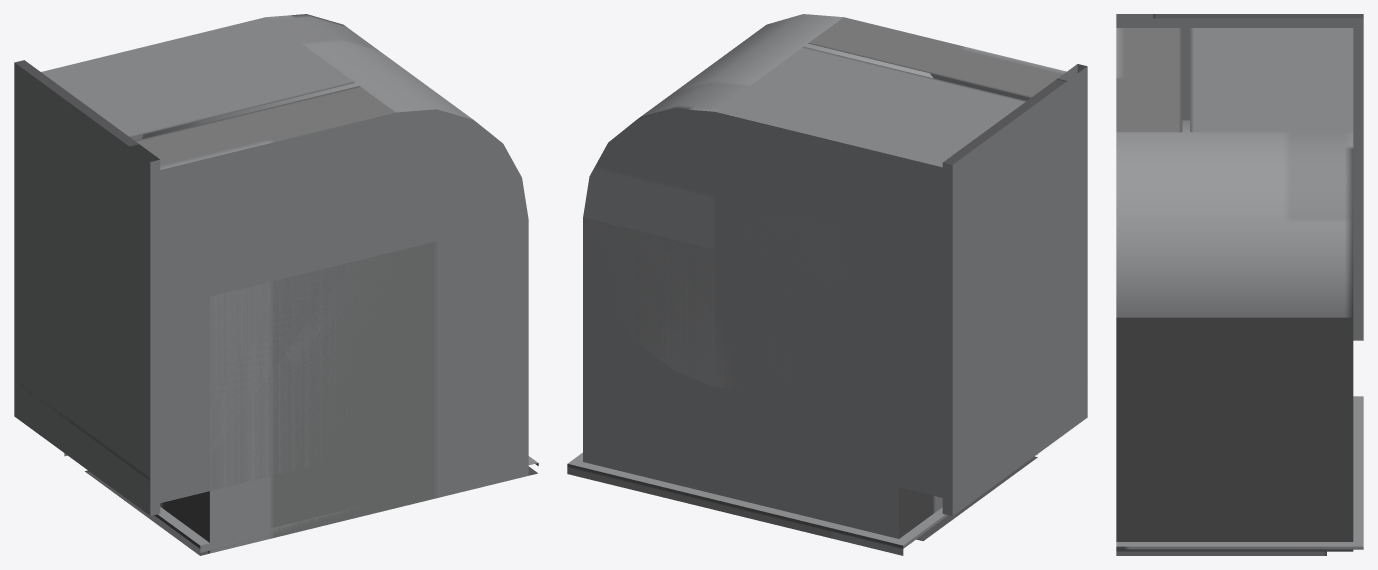
3 views of the same model, side by side, from view 1: azimuth 30°, elevation 25°; view 2: azimuth 150°, elevation 25°; view 3: azimuth 270°, elevation 25° (orthographic). The views are drawn at different scales.
Size of the model in its own units: 0.585 by 0.585 by 0.355.
